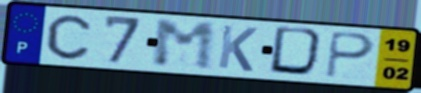7: (102, 14, 144, 66)
C: (45, 13, 93, 61)
D: (267, 25, 330, 80)
K: (215, 23, 260, 74)
M: (152, 18, 217, 72)
P: (324, 29, 378, 80)
